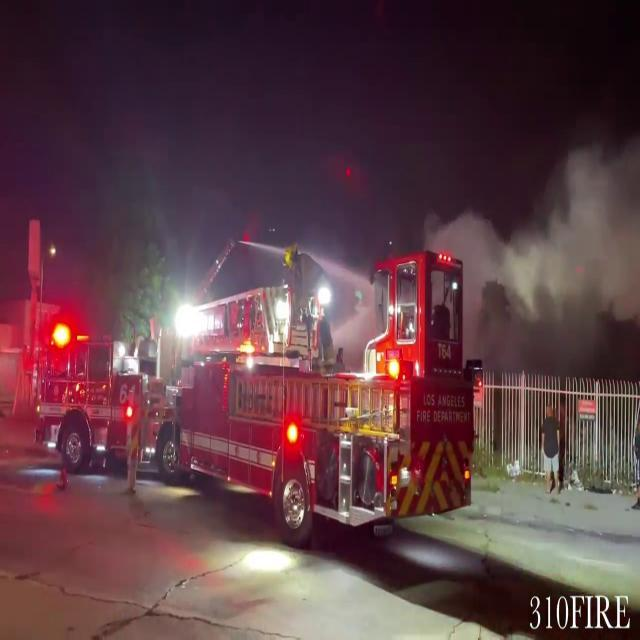Smoke: (509, 118, 640, 340)
